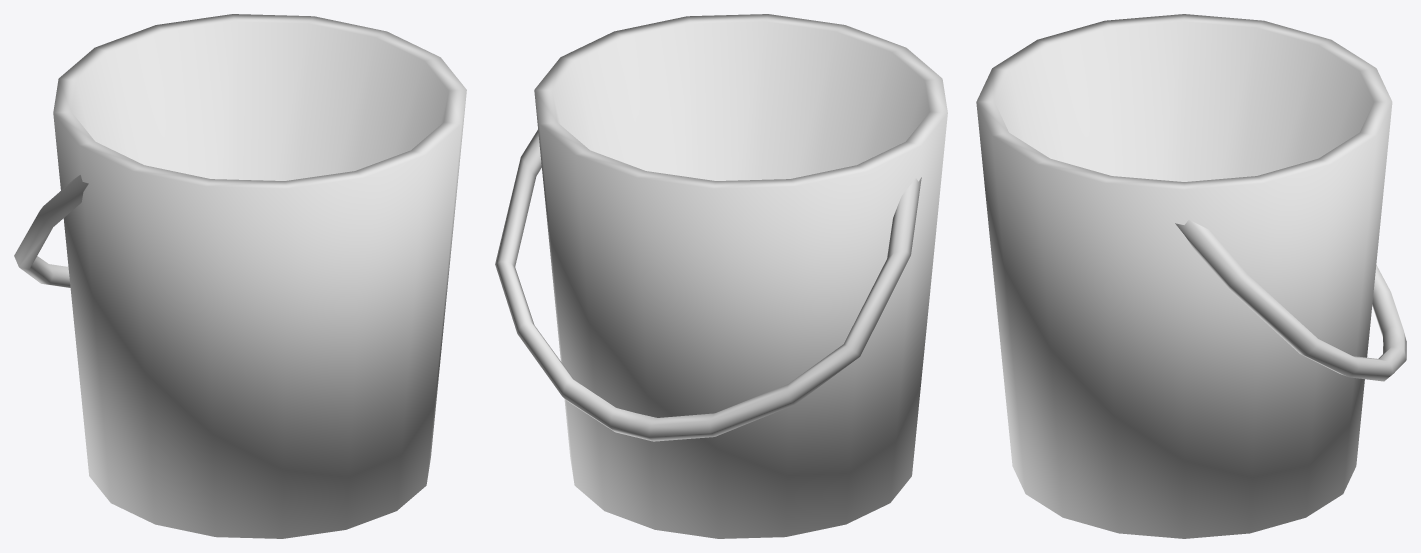
Rendered from Bucket.fbx.
3 views of the same model, side by side, from view 1: azimuth 30°, elevation 25°; view 2: azimuth 150°, elevation 25°; view 3: azimuth 270°, elevation 25° (orthographic).
Visible parts, largest first — view 1: Bucket; view 2: Bucket; view 3: Bucket.
Part boxes in pixels (x1,y1,x2,y2): Bucket: (14, 14, 466, 538); Bucket: (495, 14, 947, 538); Bucket: (976, 14, 1406, 538).
Bounding box in the file's own units: 33.27 × 30.14 × 32.25.
